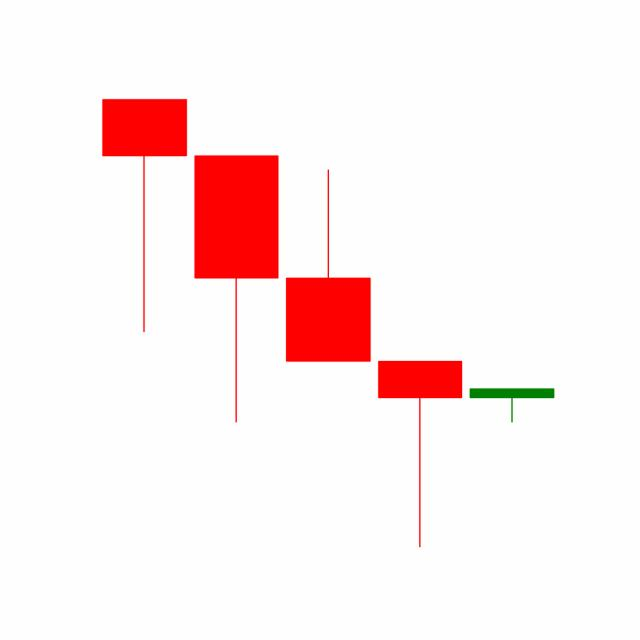Hammer: (373, 358, 467, 549)
